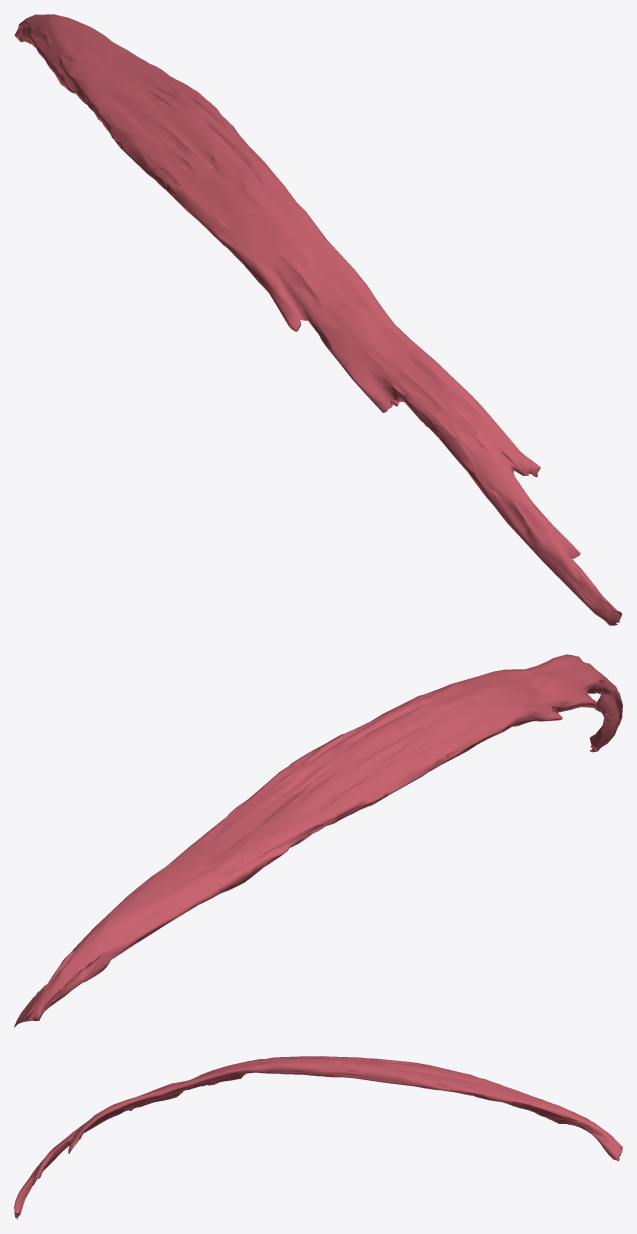
3 renders of one model, top to bottom at view 1: azimuth 30°, elevation 25°; view 2: azimuth 150°, elevation 25°; view 3: azimuth 270°, elevation 25°, orthographic. The views are drawn at different scales.
Parts seen in each view (by area): view 1: 右侧胸髂肋肌; view 2: 右侧胸髂肋肌; view 3: 右侧胸髂肋肌.
Part boxes in pixels (x1,y1,x2,y2): 右侧胸髂肋肌: (14,14,622,625); 右侧胸髂肋肌: (14,654,622,1027); 右侧胸髂肋肌: (14,1056,622,1219).
Bounding box in the file's own units: 0.0805 × 0.1172 × 0.4663.
